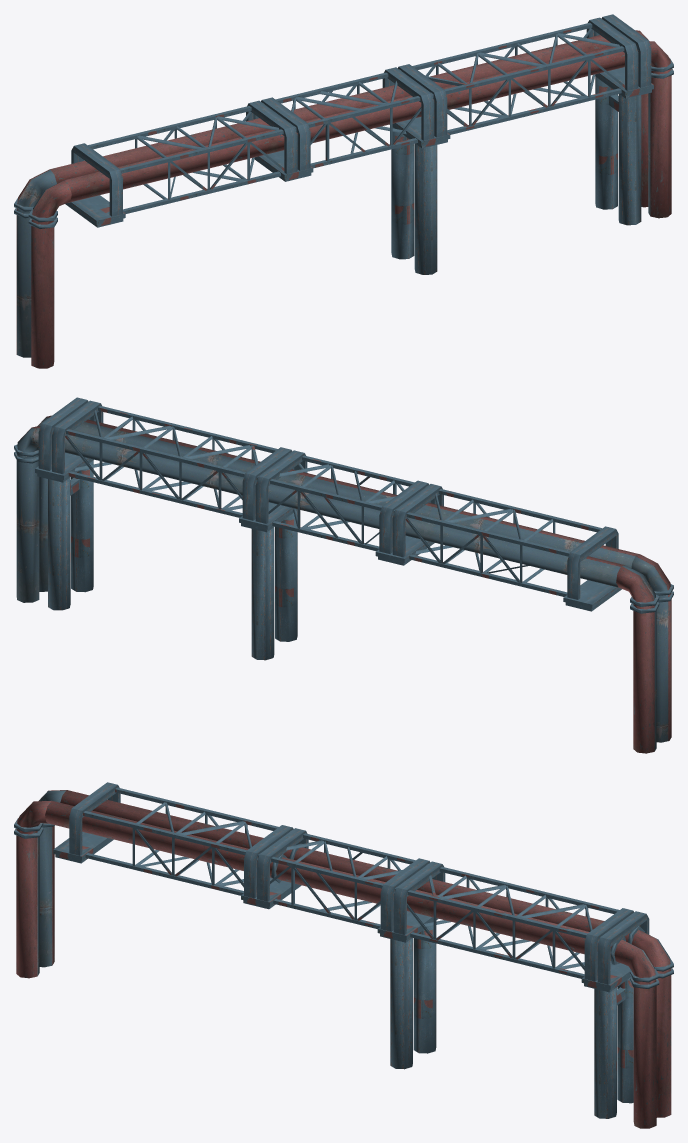
File: Prop_Jz002Gcgd001_lod1.glb
3 renders of one model, top to bottom at view 1: azimuth 30°, elevation 25°; view 2: azimuth 150°, elevation 25°; view 3: azimuth 330°, elevation 25°, orthographic.
Visible parts, largest first — view 1: xiutz_jz002_gcgd001_lod1; view 2: xiutz_jz002_gcgd001_lod1; view 3: xiutz_jz002_gcgd001_lod1.
Boxes of the visible parts, x1=… form: xiutz_jz002_gcgd001_lod1: x1=14, y1=14, x2=673, y2=368; xiutz_jz002_gcgd001_lod1: x1=14, y1=397, x2=673, y2=753; xiutz_jz002_gcgd001_lod1: x1=14, y1=782, x2=673, y2=1128.
Bounding box in the file's own units: 40.86 × 11.38 × 4.68.
1 material, 1 textured.
